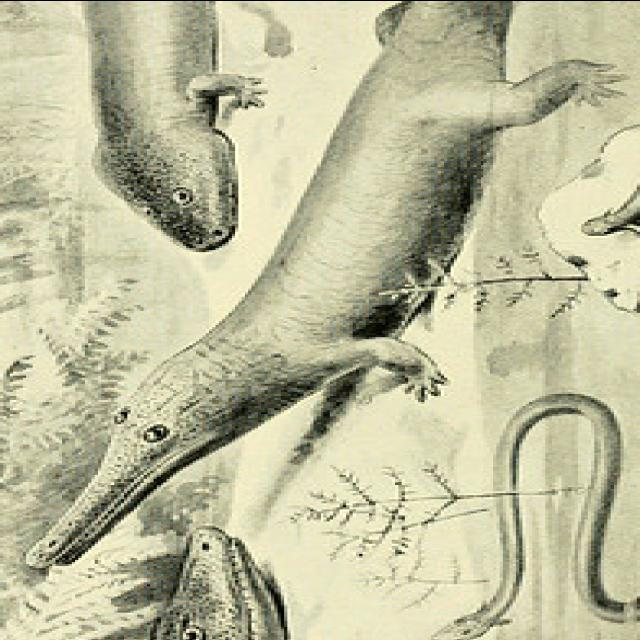Snake: (19, 0, 640, 569), (284, 374, 640, 640)
